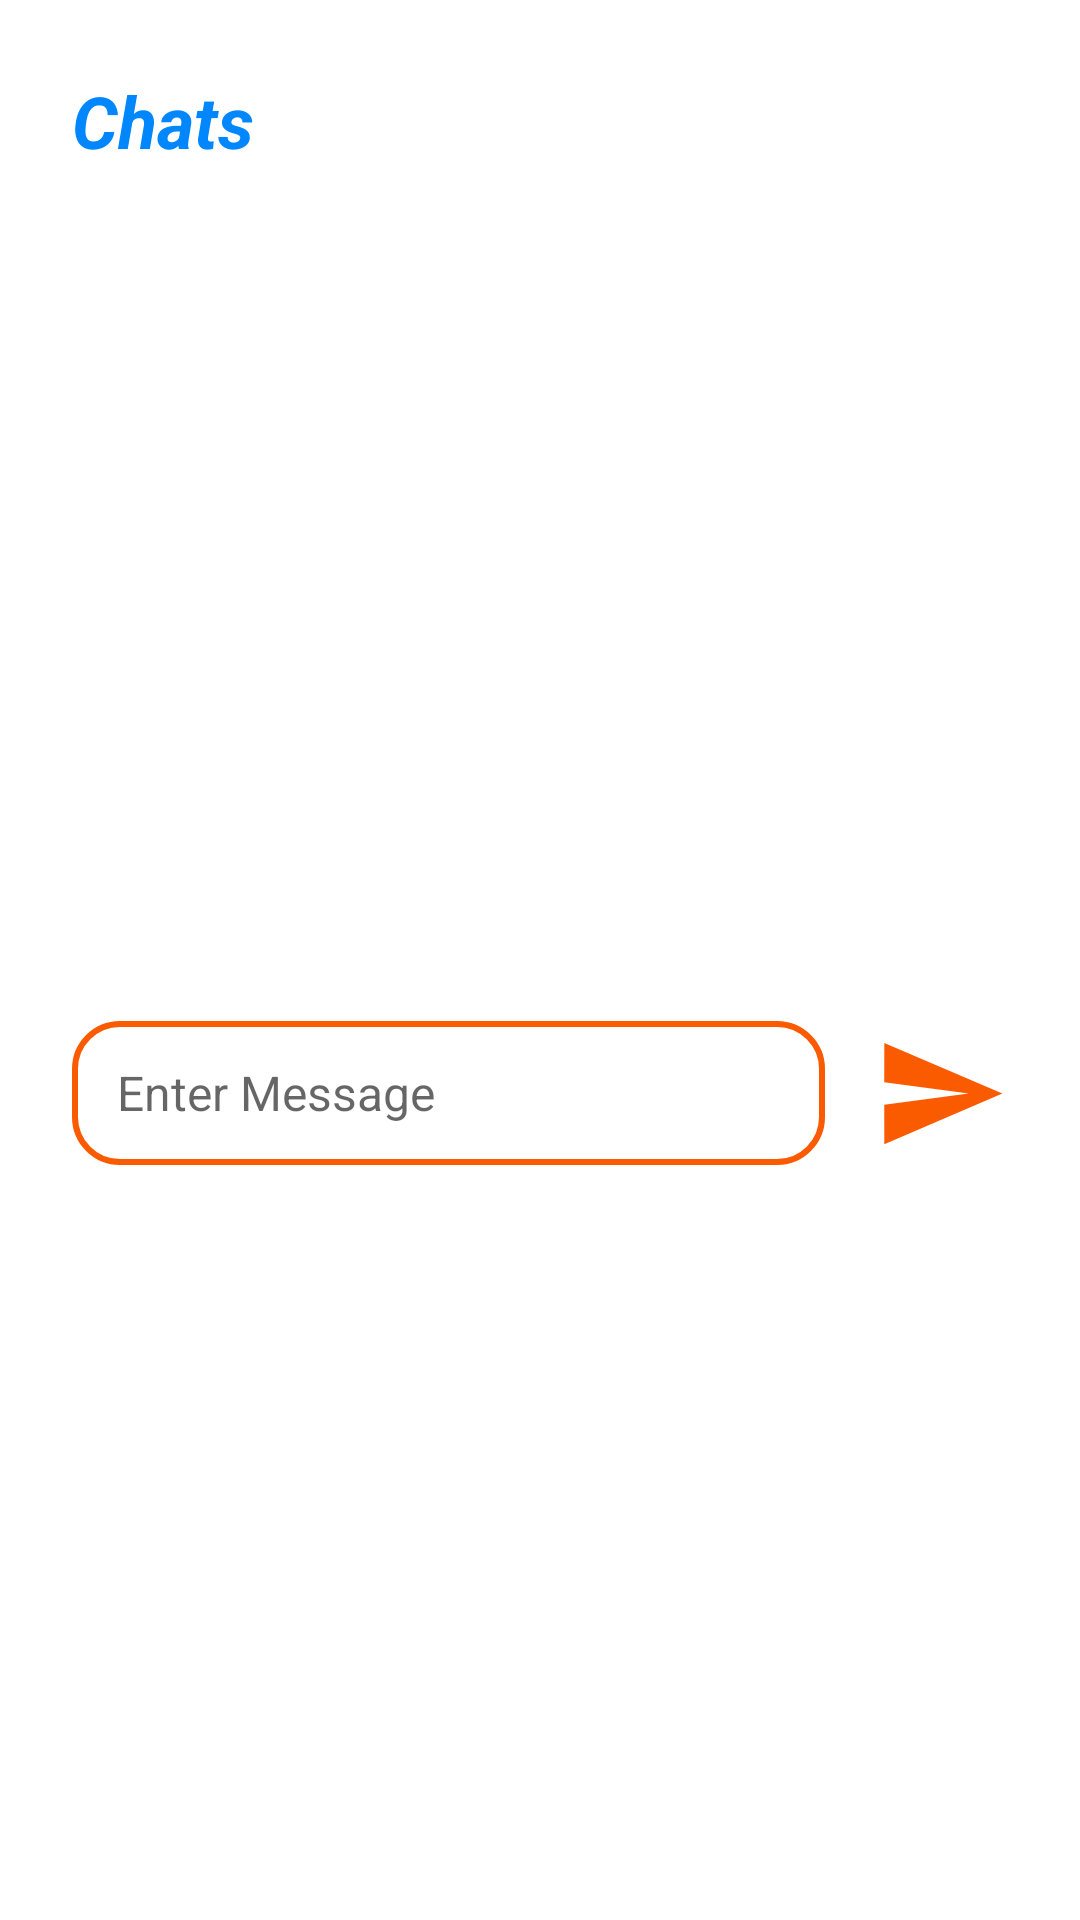

Icon click points for this 1080px x 1920px phone screenshot, format (x,y):
send: (943,1093)
